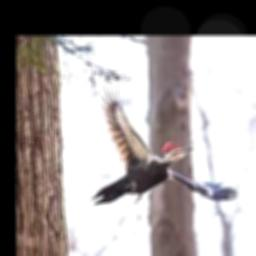Woodpecker: (92, 83, 238, 204)
